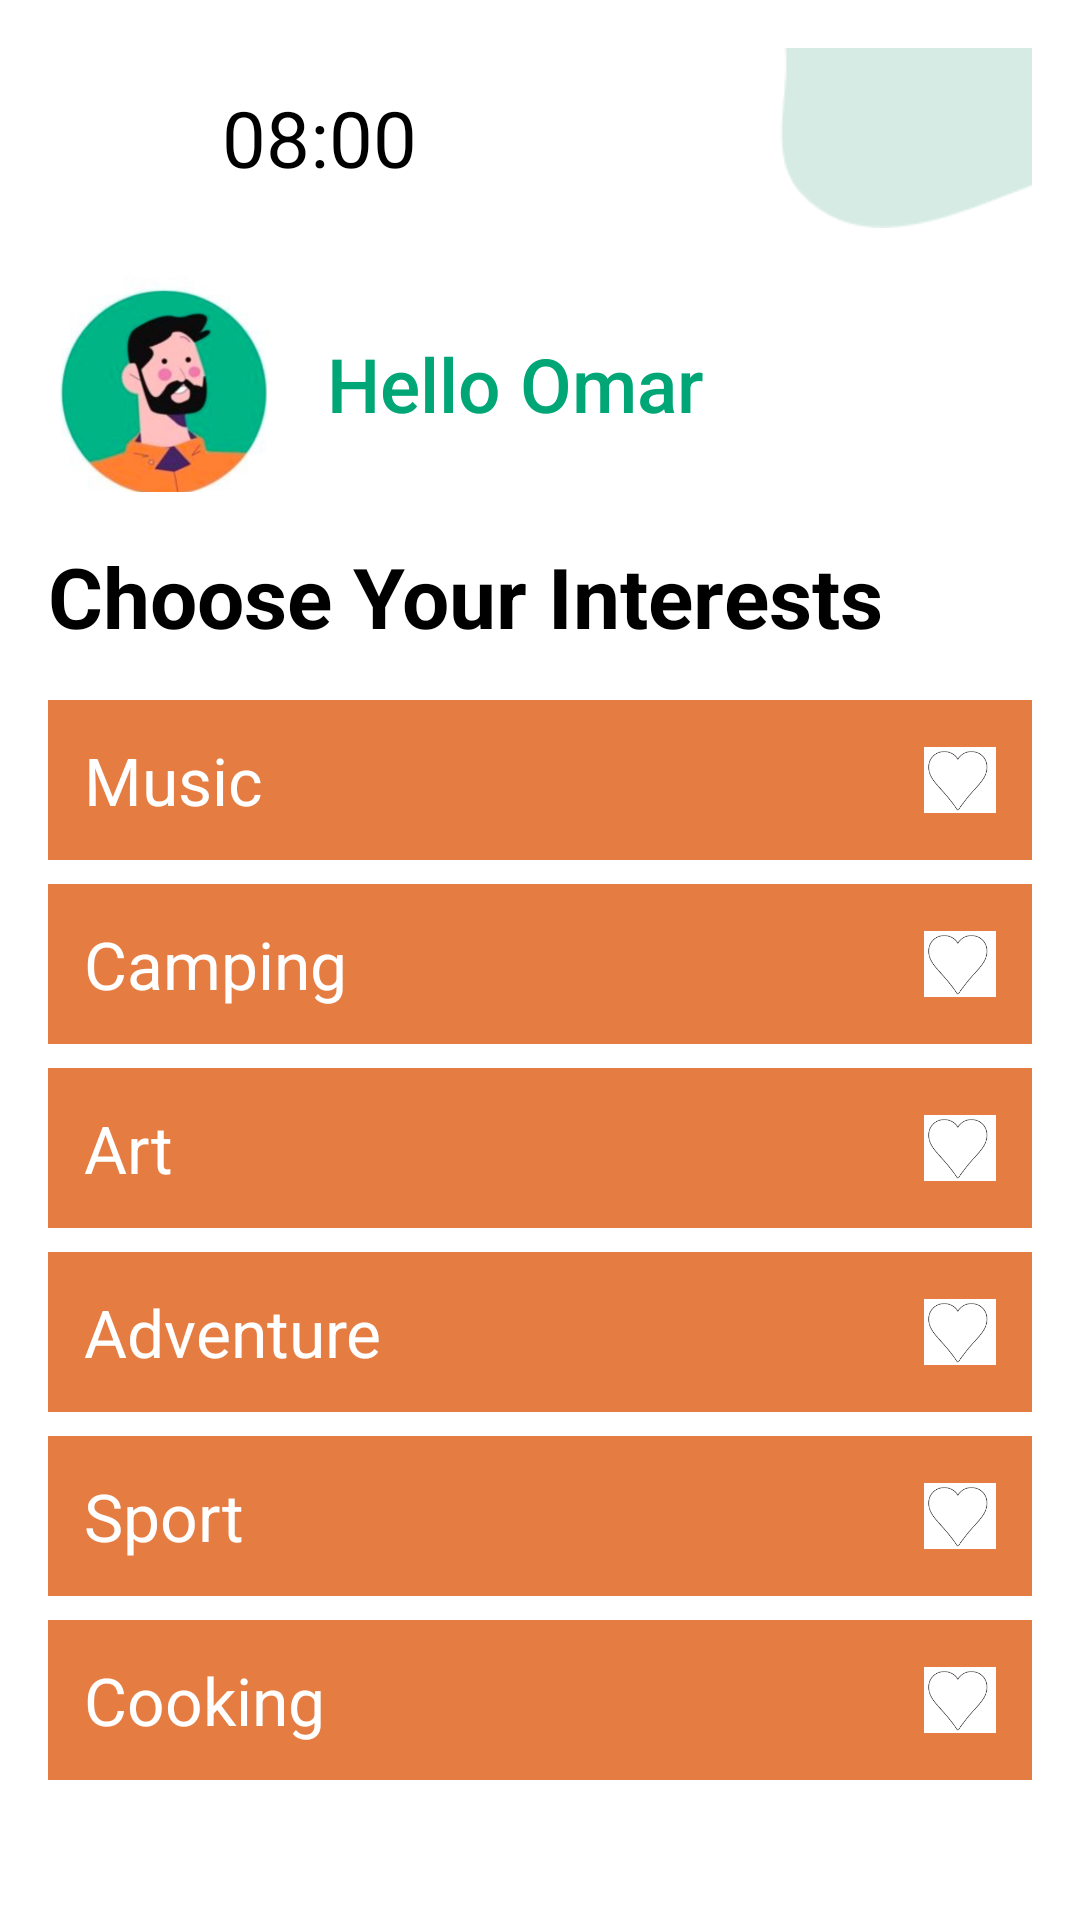

Screen size 1080px x 1920px. Icon name, then its box in pixels as (x1, y1, x2, y2):
Profile Image: (60, 289, 267, 492)
